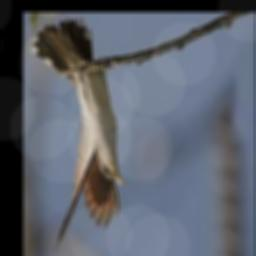Cuckoo: (30, 19, 125, 250)
